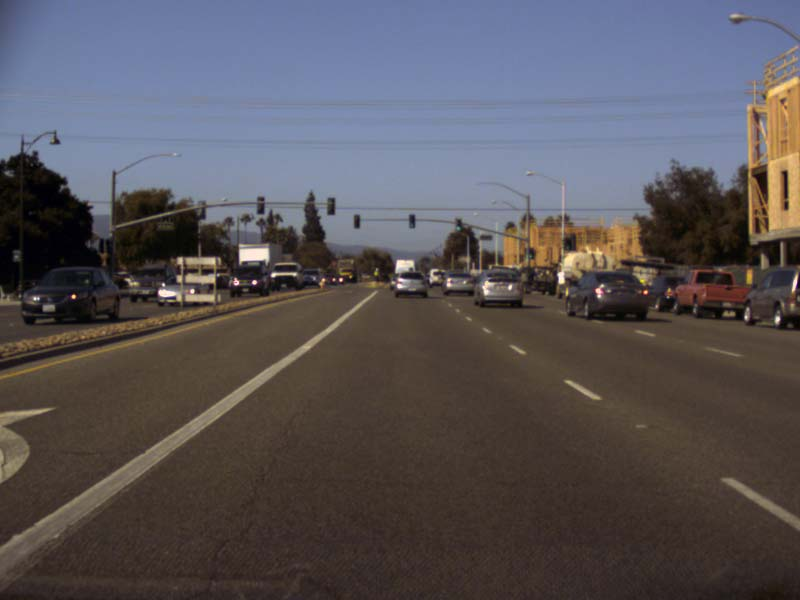Green: (409, 215, 414, 227), (455, 218, 460, 230), (565, 238, 570, 249), (528, 248, 532, 258)
Red: (354, 215, 359, 227)
